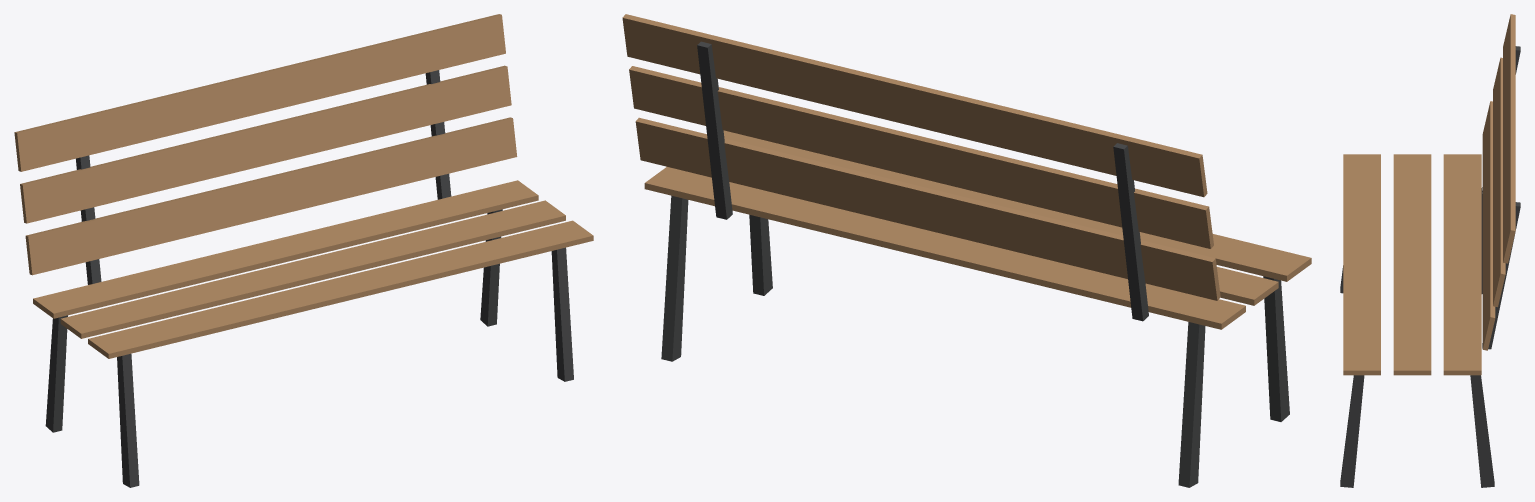
File: SM_bench_playground.fbx
The picture shows the model from 3 angles, left to right: view 1: azimuth 30°, elevation 25°; view 2: azimuth 150°, elevation 25°; view 3: azimuth 270°, elevation 25°; orthographic projection. The views are drawn at different scales.
Parts seen in each view (by area): view 1: Line007; view 2: Line007; view 3: Line007.
Boxes of the visible parts, left/top/right/bottom form: Line007: left=14, top=14, right=593, bottom=487; Line007: left=622, top=14, right=1311, bottom=487; Line007: left=1340, top=14, right=1520, bottom=487.
Size of the model in its own units: 75.46 by 43.52 by 26.66.
